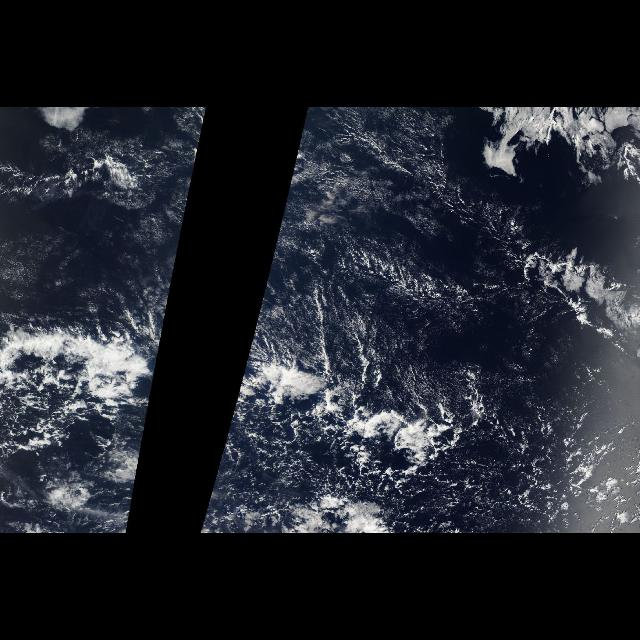Gravel: (428, 333, 640, 365)
Sugar: (250, 107, 464, 380), (60, 117, 206, 213)
